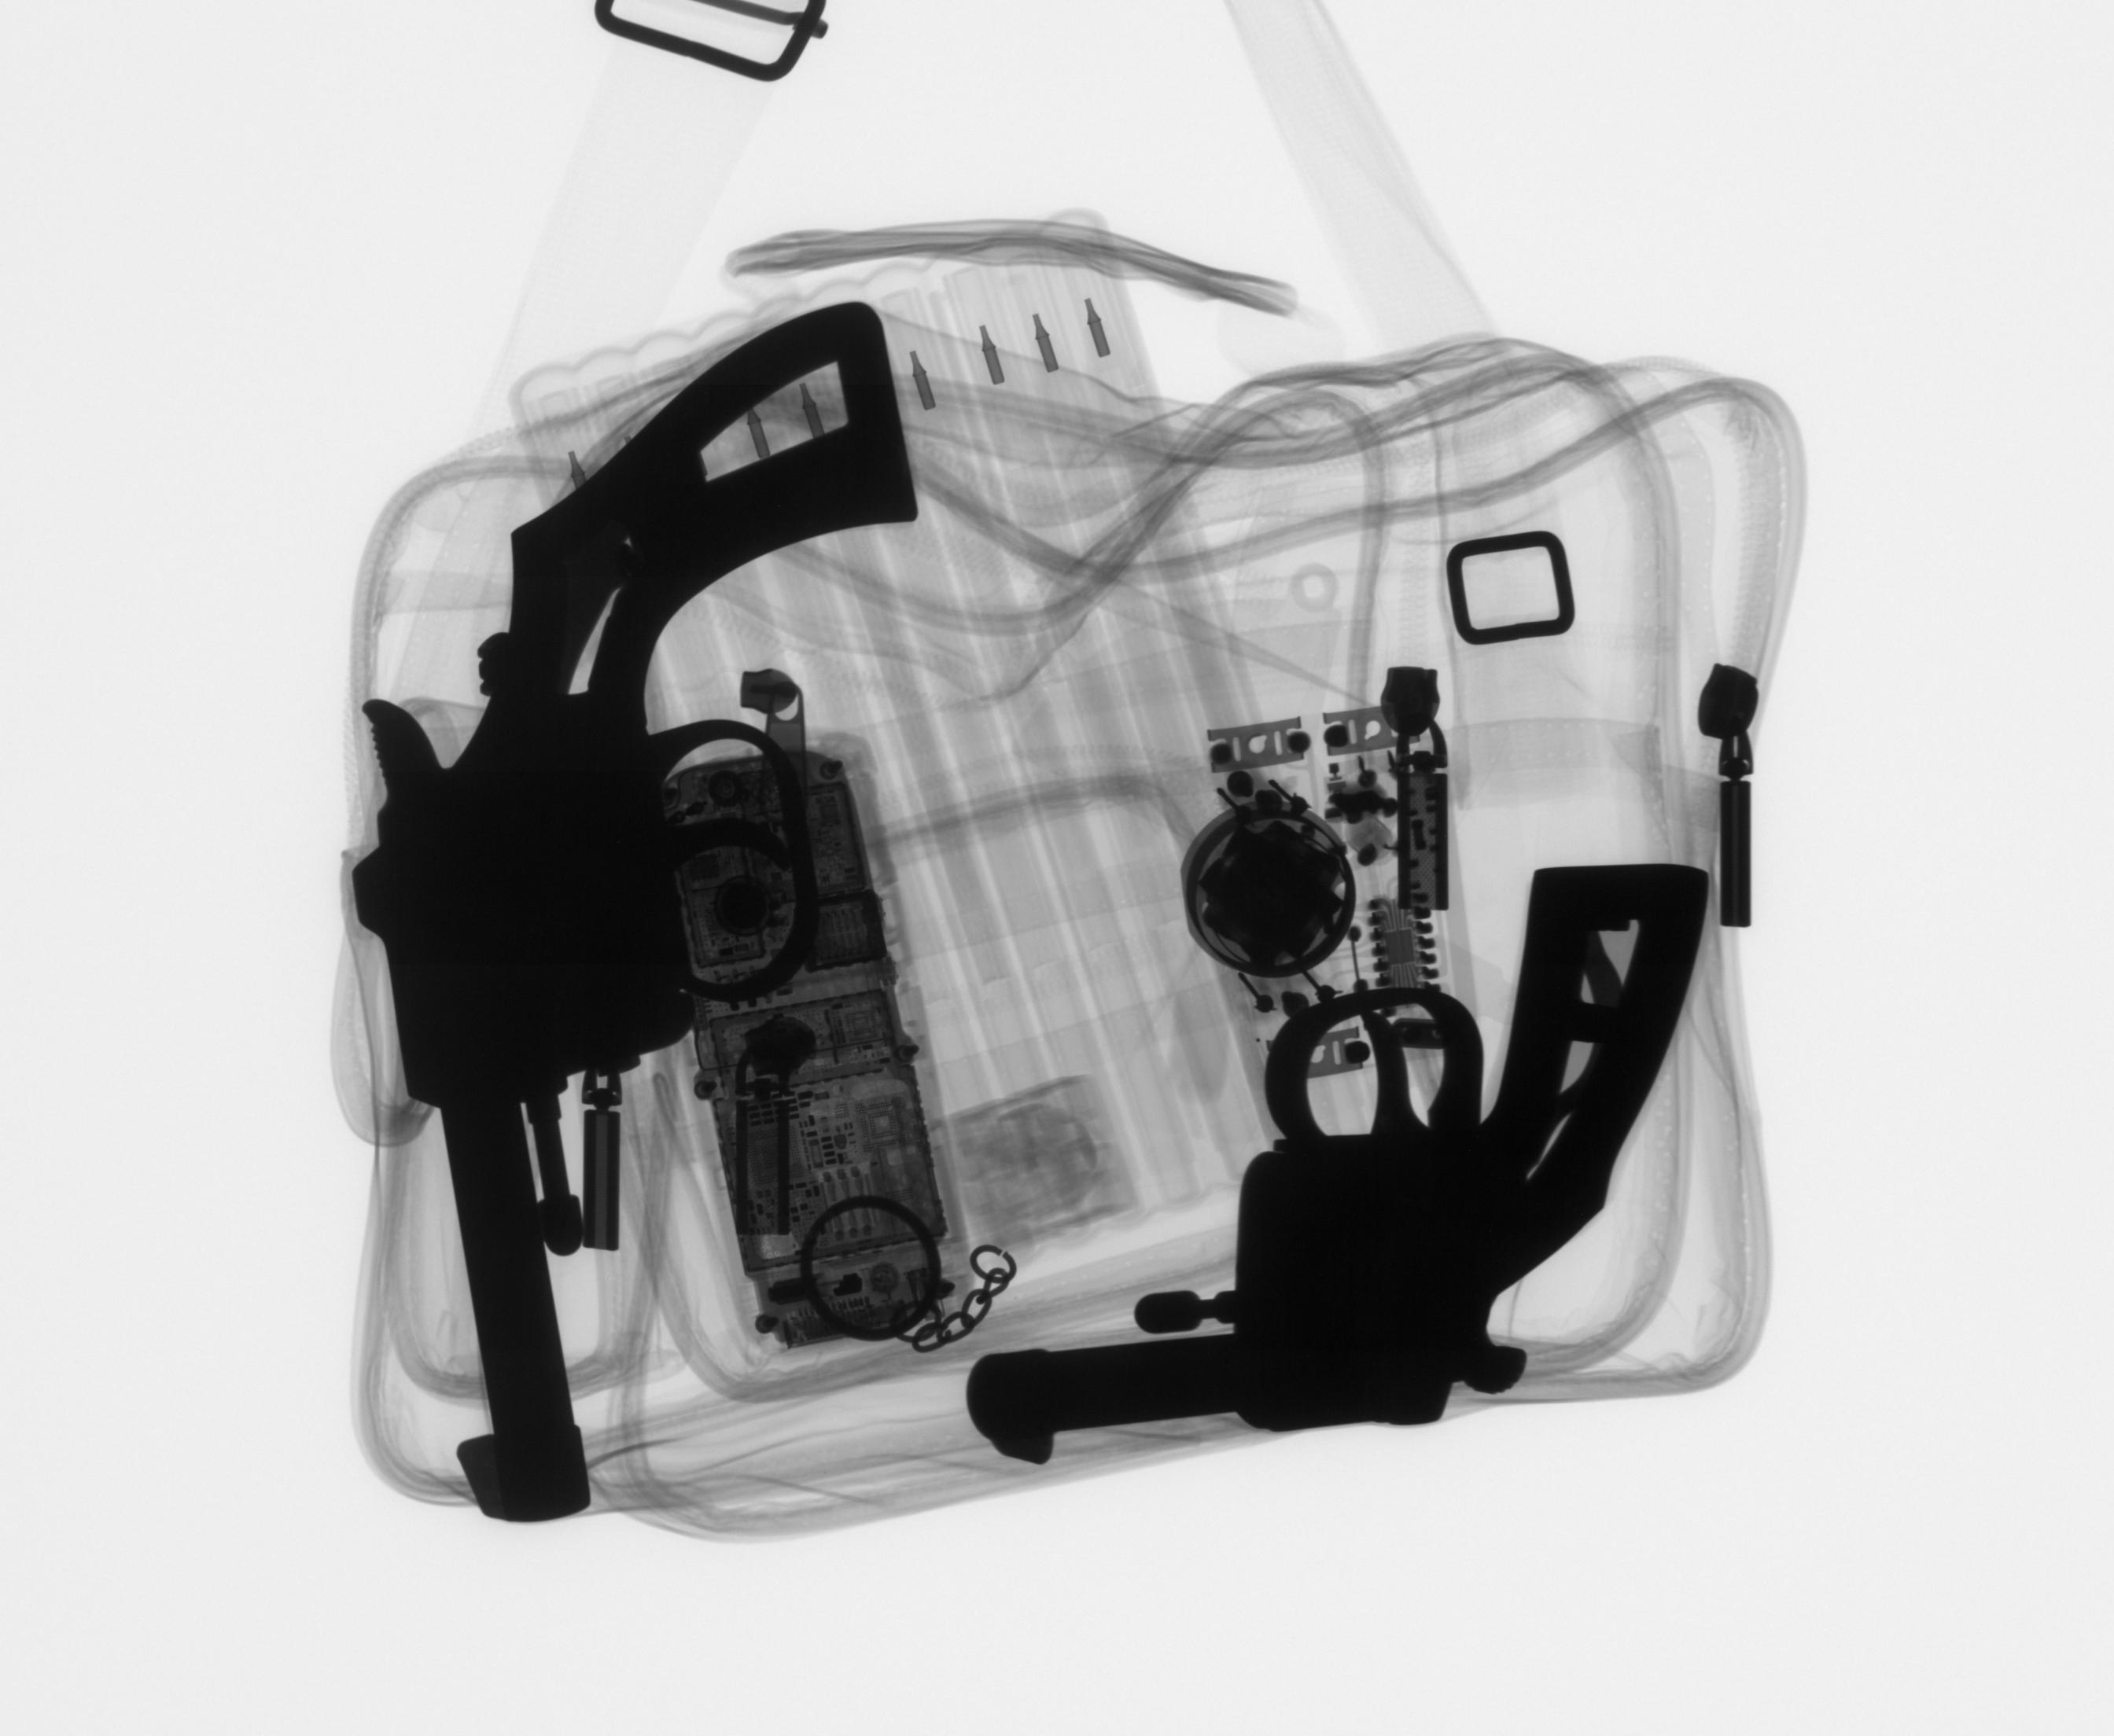Handgun: (343, 292, 924, 1528), (958, 855, 1721, 1477)
